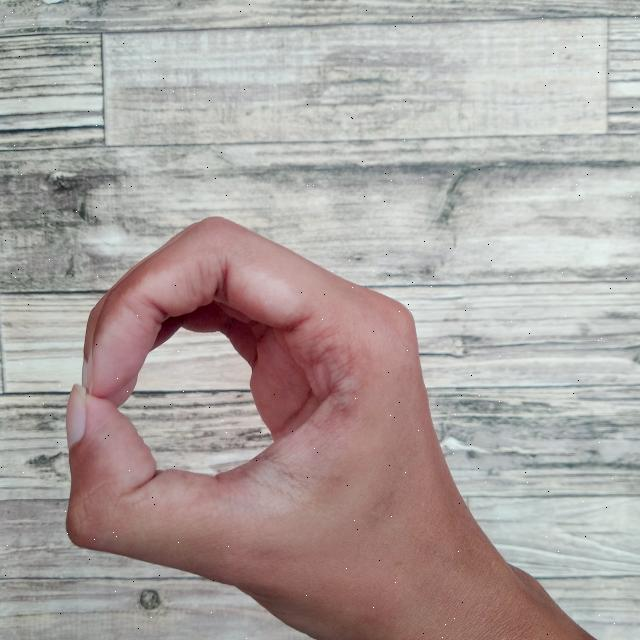O: (52, 205, 598, 640)
